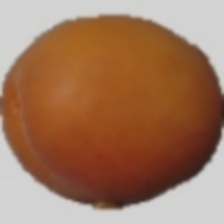apricot: (4, 26, 190, 224)
